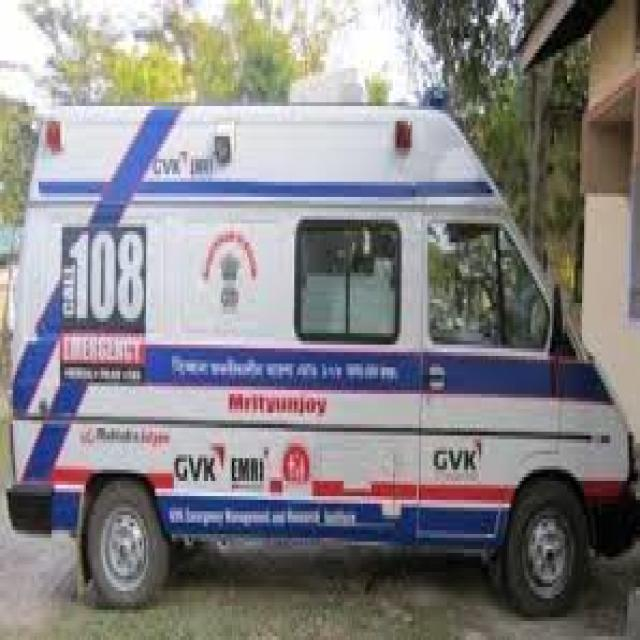Ambulance: (0, 65, 640, 632)
